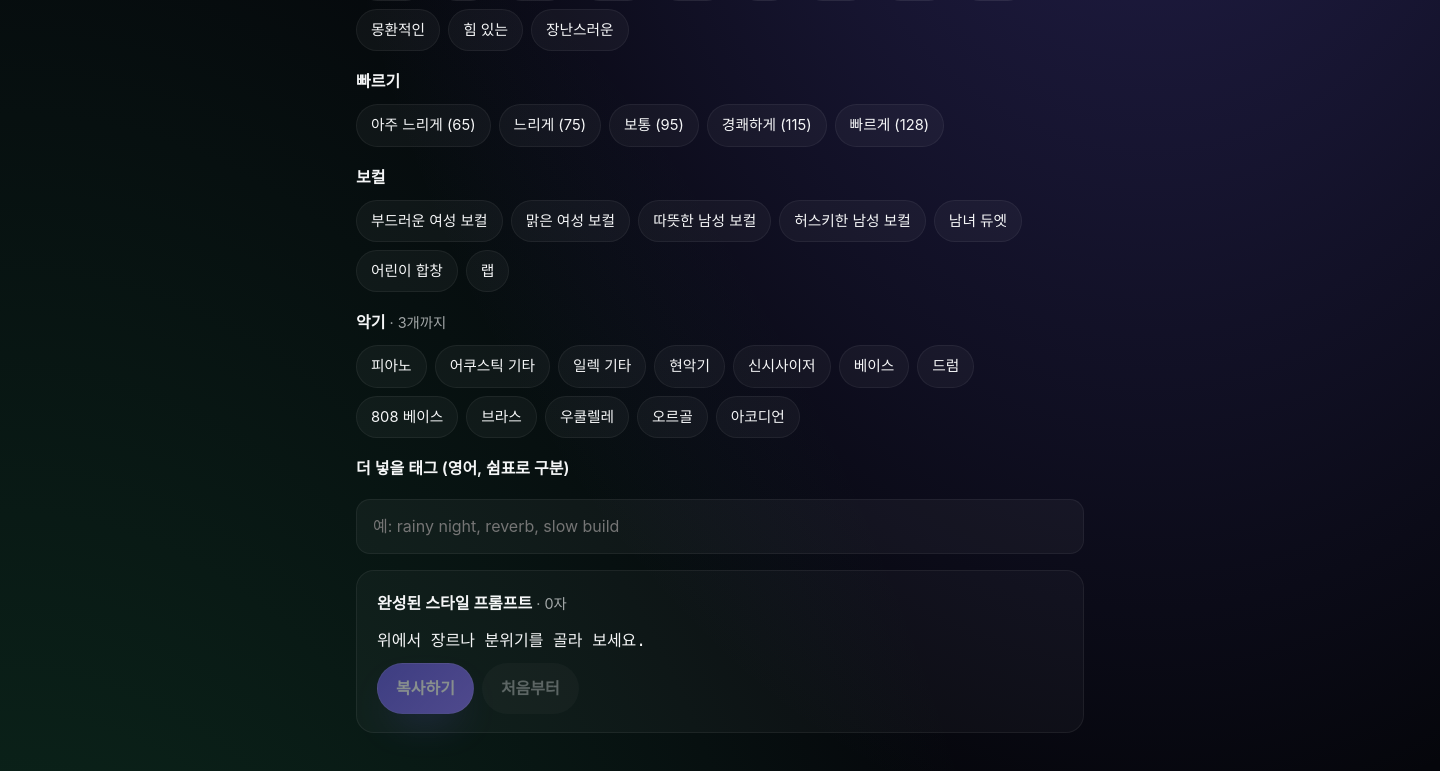
Scenario: suno style page › marks selected chips and resets
(page scrolled)
Click the button "피아노": (391,367) [356,345,427,388]
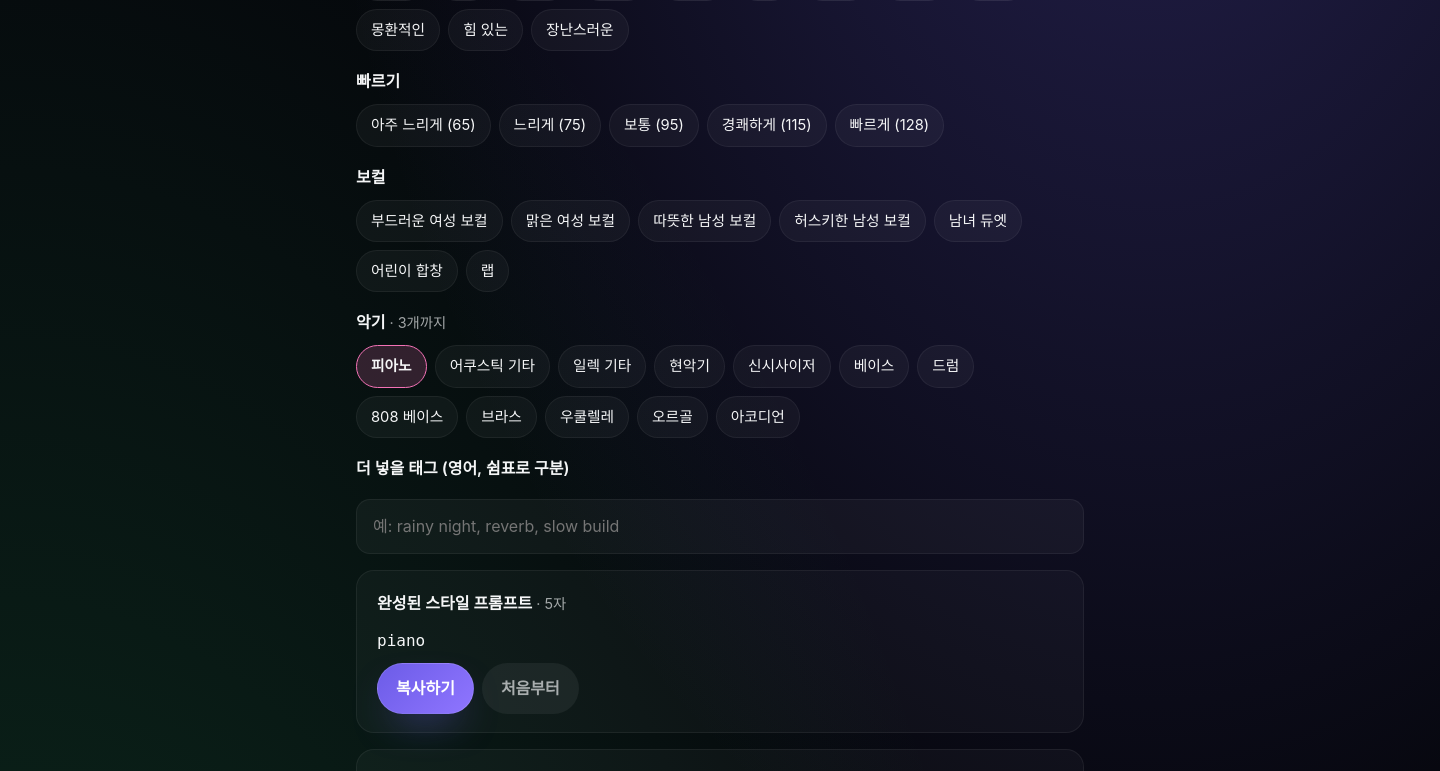
Check: the button "피아노" is pressed, box [356,345,427,388]
Click the button "처음부터": (530,689) [482,663,579,714]
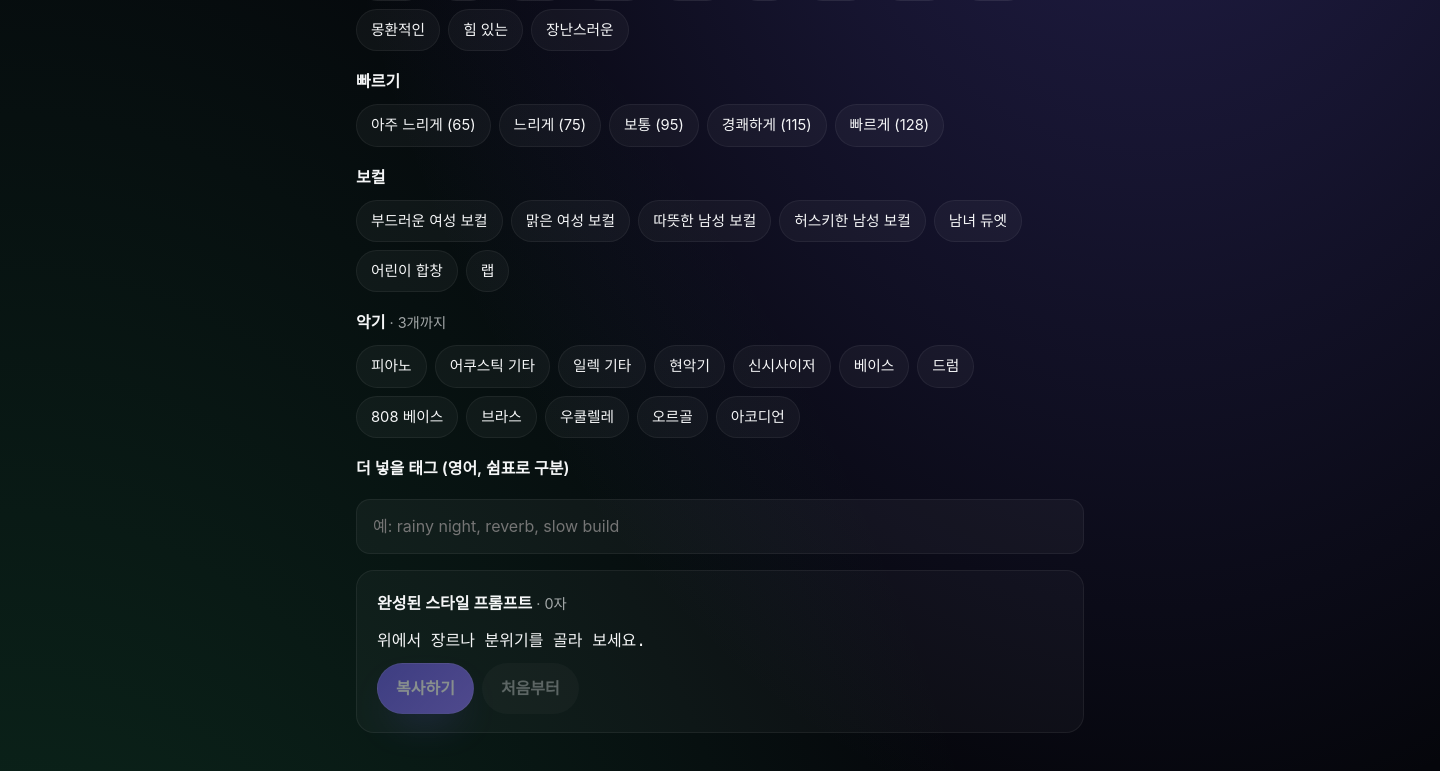
Check: the button "복사하기" is disabled, box [377,663,474,714]
